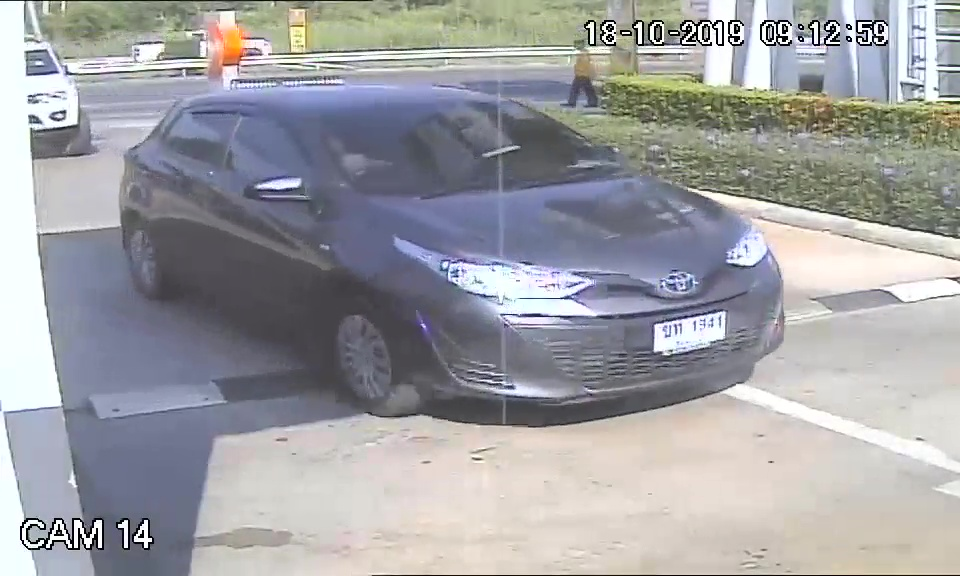sedan: (121, 85, 788, 421)
